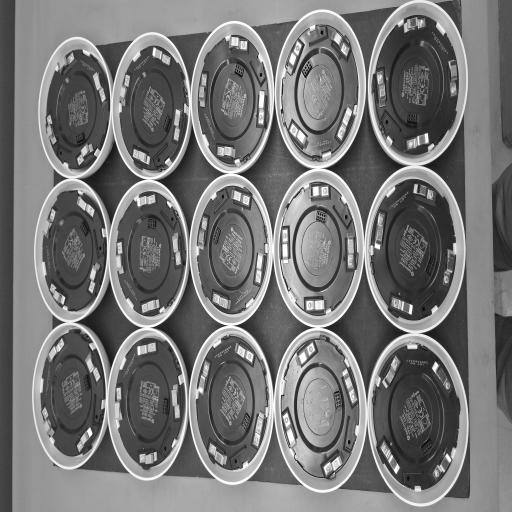yayli: (432, 360, 454, 397), (284, 38, 304, 77), (379, 437, 399, 475), (432, 448, 453, 482), (321, 449, 344, 479), (336, 106, 354, 144), (281, 407, 297, 449), (342, 366, 358, 407), (382, 355, 401, 389), (286, 118, 306, 150), (442, 249, 457, 290), (296, 340, 318, 367), (330, 29, 349, 59), (234, 339, 255, 366), (252, 410, 266, 450), (412, 183, 436, 205), (207, 441, 227, 467), (389, 295, 413, 316), (405, 132, 430, 152), (253, 248, 266, 286), (47, 338, 65, 365), (197, 216, 210, 253), (76, 142, 94, 168), (76, 426, 93, 453), (374, 212, 386, 250), (198, 359, 211, 394), (76, 195, 94, 220), (86, 351, 100, 383), (92, 72, 106, 104), (88, 261, 102, 293), (42, 208, 56, 240), (403, 16, 426, 35), (50, 282, 66, 308), (304, 296, 327, 314), (42, 408, 55, 439), (232, 188, 252, 208), (376, 68, 386, 108), (448, 60, 458, 98), (309, 182, 330, 200), (173, 108, 184, 142), (57, 52, 73, 75), (152, 47, 170, 67), (172, 232, 182, 267), (198, 73, 208, 107), (257, 90, 266, 127), (46, 115, 57, 145), (281, 227, 290, 263), (132, 148, 150, 166), (347, 233, 355, 271), (229, 36, 248, 52), (136, 193, 156, 208), (216, 145, 236, 160), (213, 293, 230, 310), (172, 384, 180, 419), (115, 386, 123, 420), (138, 341, 156, 356), (141, 299, 159, 314), (139, 450, 157, 465), (116, 241, 124, 274), (120, 85, 128, 108)
